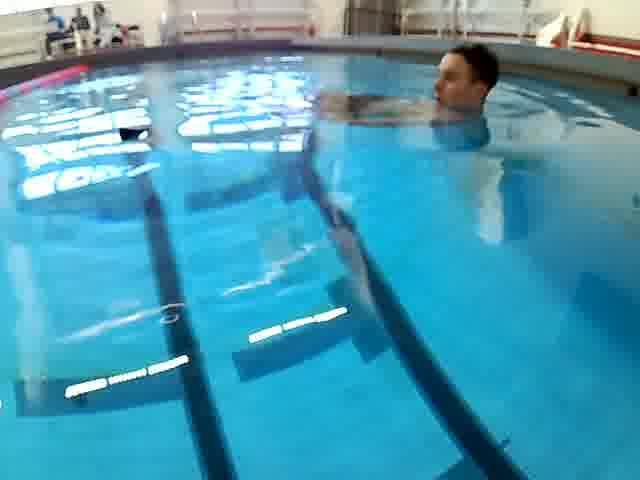CamMount: (117, 120, 156, 145)
